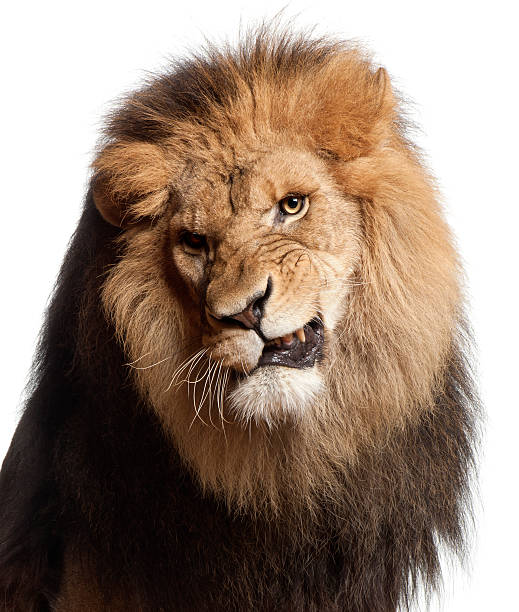lion: (31, 28, 519, 583)
